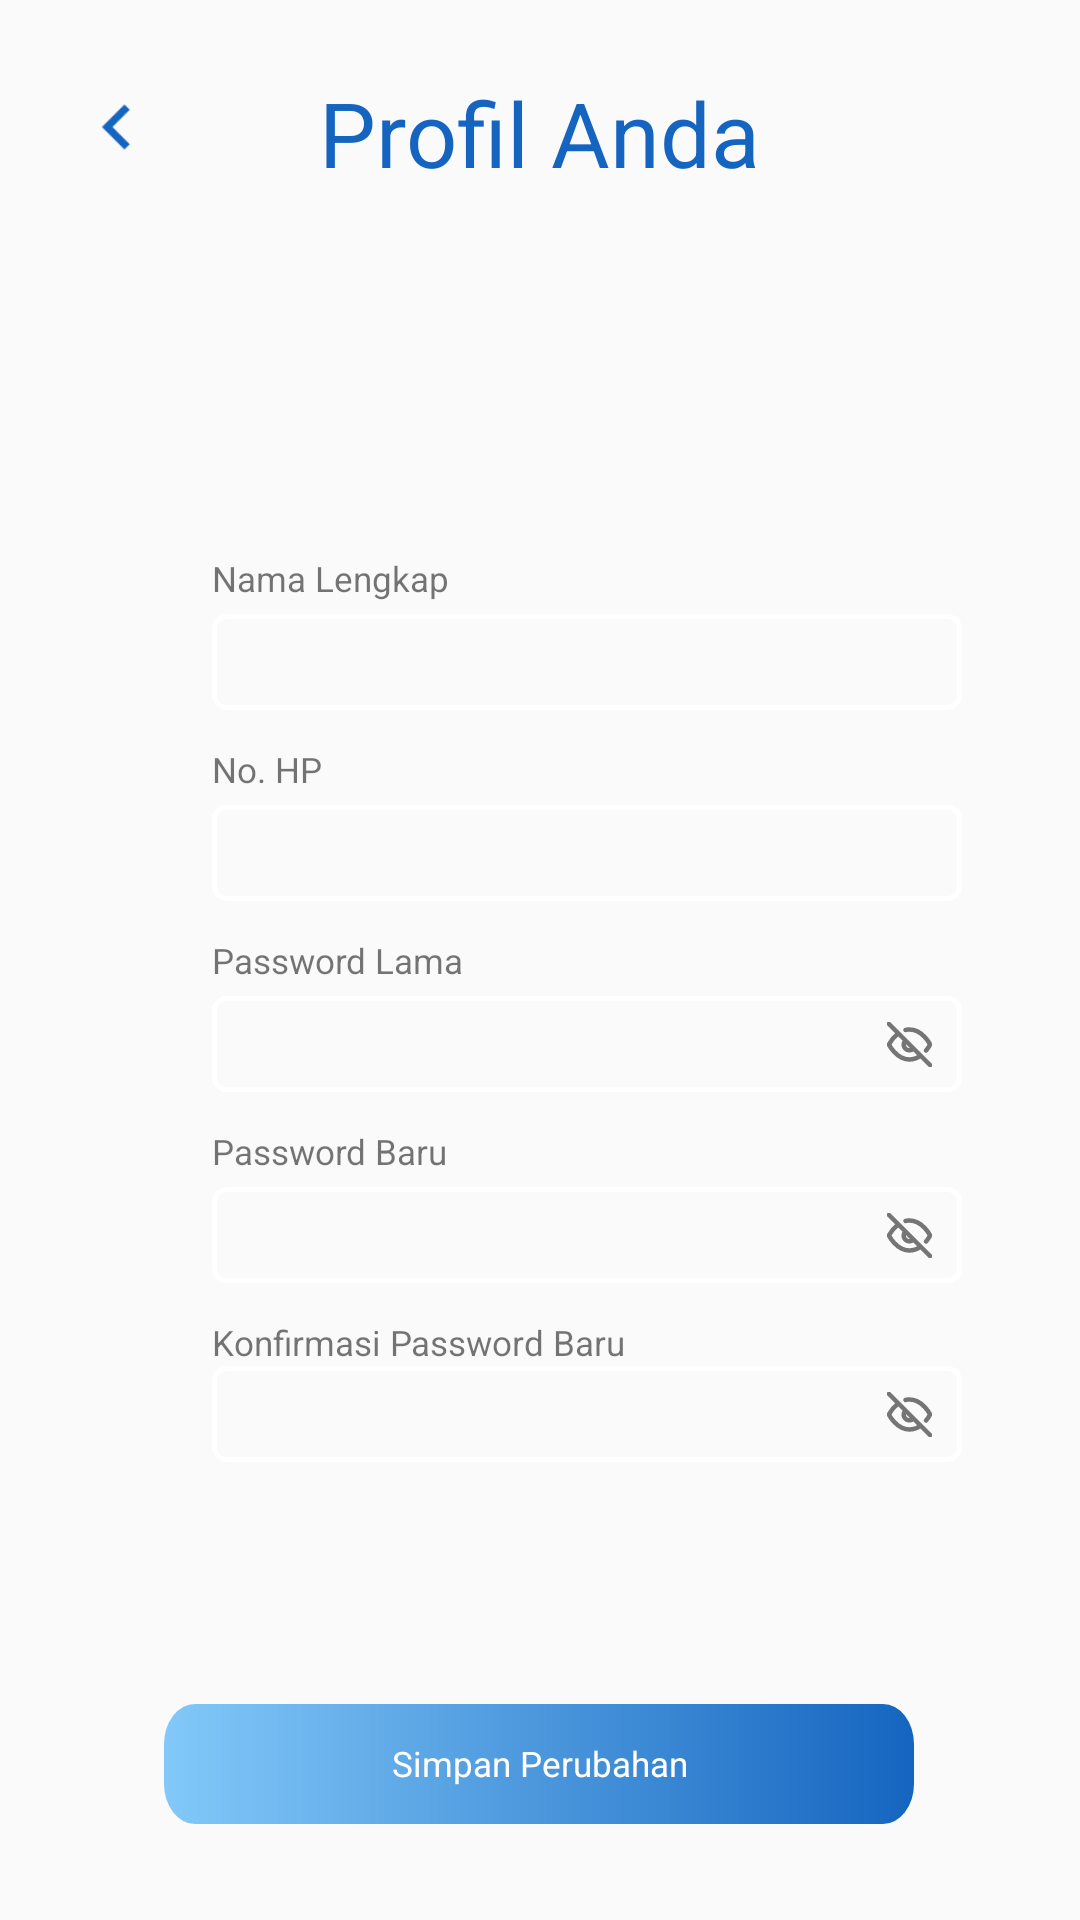

Icons on this 1080px x 1920px Android screen, each with its box as (x1, y1, x2, y2):
back: (102, 104, 130, 150)
